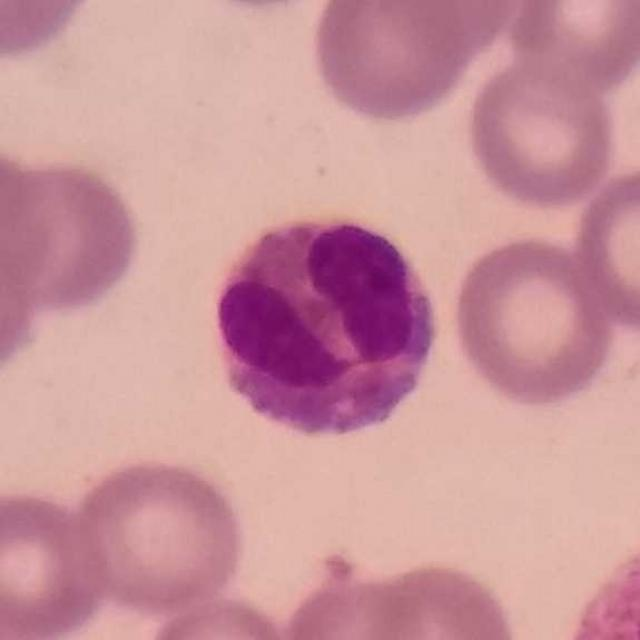Eosinophil: (203, 206, 445, 446), (563, 540, 640, 640)
RBC: (445, 229, 622, 412), (62, 450, 250, 616), (0, 144, 148, 328), (461, 51, 621, 213), (305, 0, 483, 126), (0, 482, 114, 640), (351, 554, 523, 640), (0, 147, 56, 391), (505, 0, 640, 97), (567, 159, 640, 335), (278, 560, 434, 640), (362, 1, 525, 66), (137, 593, 303, 640), (0, 0, 105, 67)
